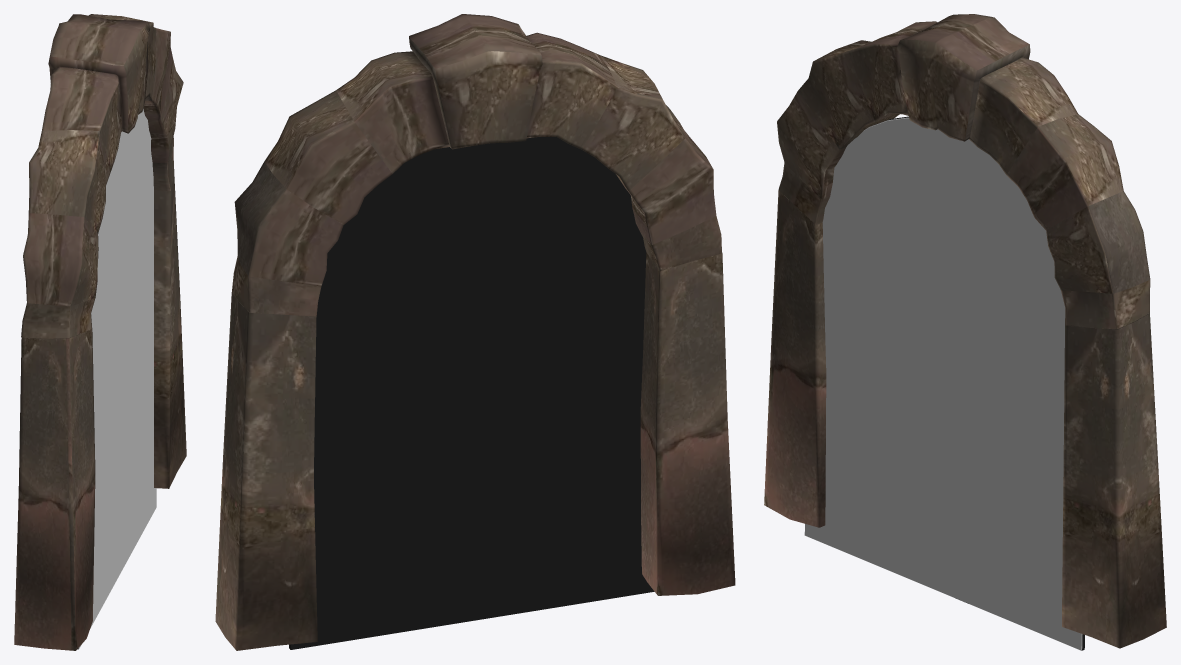
The model's file is left-door-transformed.glb.
3 renders of one model, left to right at view 1: azimuth 30°, elevation 25°; view 2: azimuth 150°, elevation 25°; view 3: azimuth 270°, elevation 25°, orthographic. The views are drawn at different scales.
Parts seen in each view (by area): view 1: StoneGateway.002, Retopo_Circle.001; view 2: Retopo_Circle.001, StoneGateway.002; view 3: Retopo_Circle.001, StoneGateway.002.
Part boxes in pixels (left/top/right/bottom): StoneGateway.002: left=14, top=14, right=186, bottom=650; Retopo_Circle.001: left=77, top=109, right=156, bottom=649; Retopo_Circle.001: left=289, top=137, right=654, bottom=649; StoneGateway.002: left=215, top=14, right=735, bottom=650; Retopo_Circle.001: left=804, top=116, right=1084, bottom=650; StoneGateway.002: left=764, top=14, right=1166, bottom=648.
Size of the model in its own units: 2.56 by 4.15 by 2.68.
3 materials, 3 textured.
